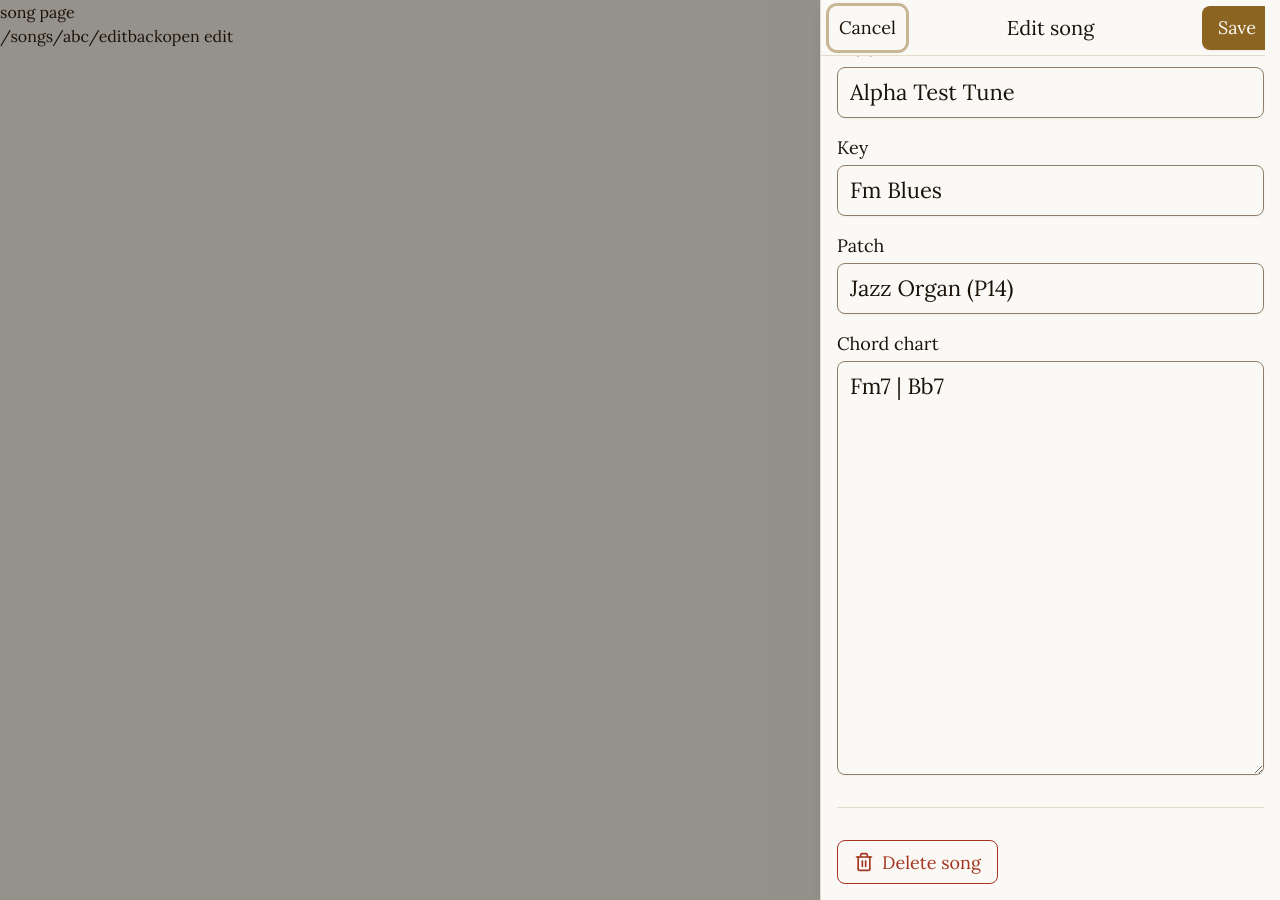
Scenario: SongEdit delete › says so when the API reports the song in use
The width and height of the screenshot is (1280, 900).
(page scrolled)
Click the button "Delete song" at (917,862), box x1=837 y1=840 x2=998 y2=884
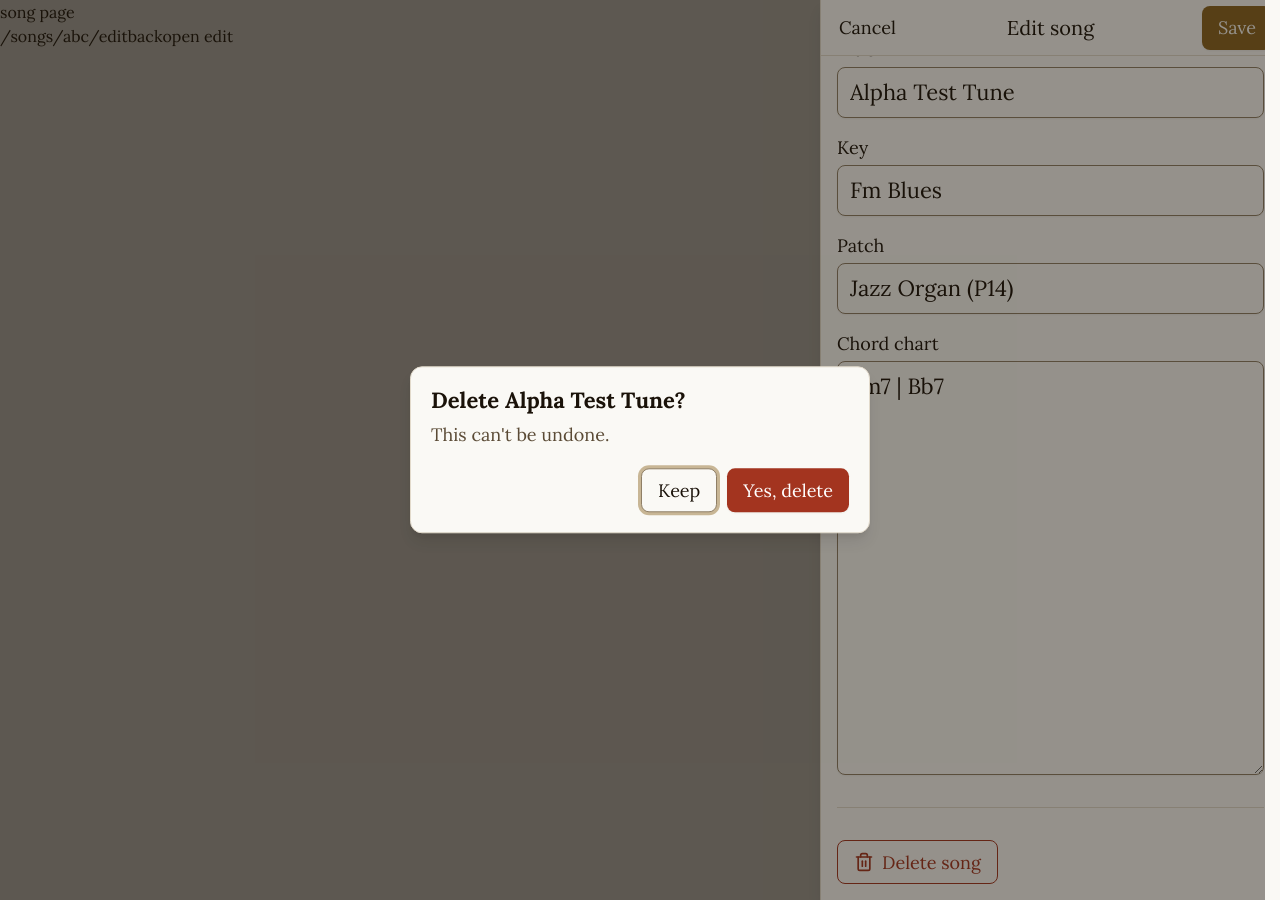
Click the button "Yes, delete" at (788,491), box x1=727 y1=469 x2=849 y2=513
(page scrolled)
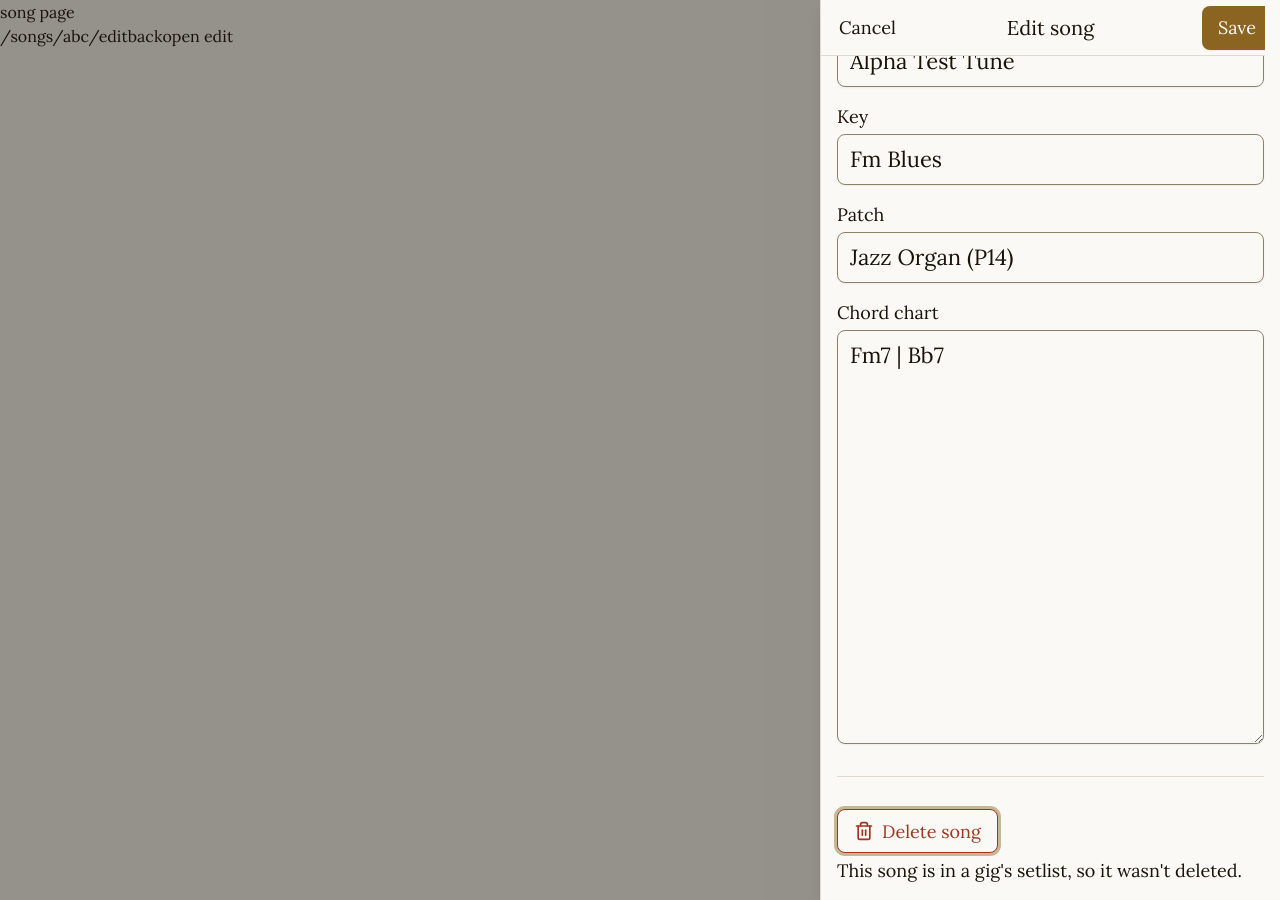
Now the message reads "This song is in a gig's setlist, so it wasn't deleted.", box x1=837 y1=859 x2=1242 y2=882
